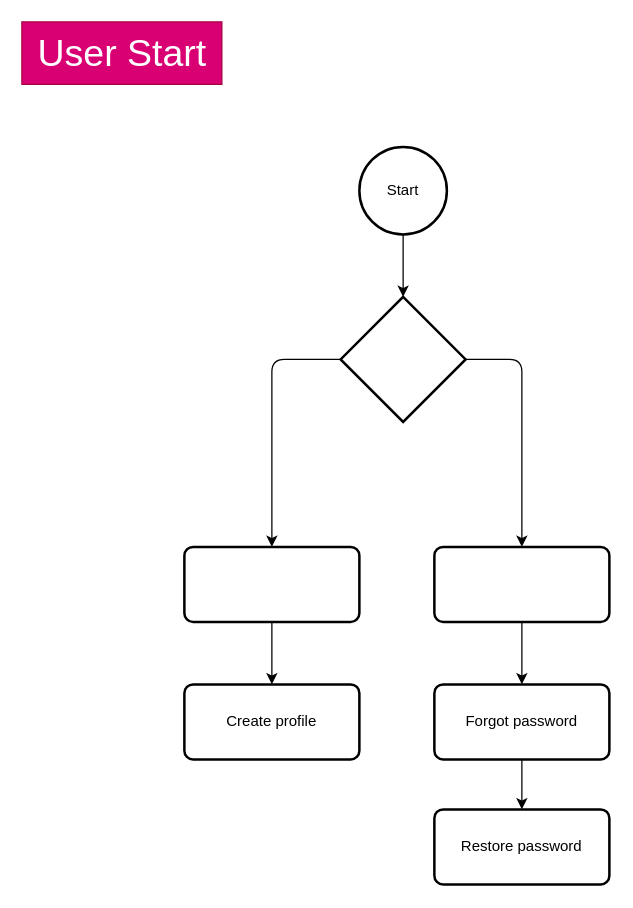
Image size: 633x908. Some labels were removed from this diagram. The centre of each missing label's shape, as x and y in pixels:
Are you user ?: (x=402, y=358)
SigIn: (x=521, y=583)
SignUp: (x=271, y=583)
